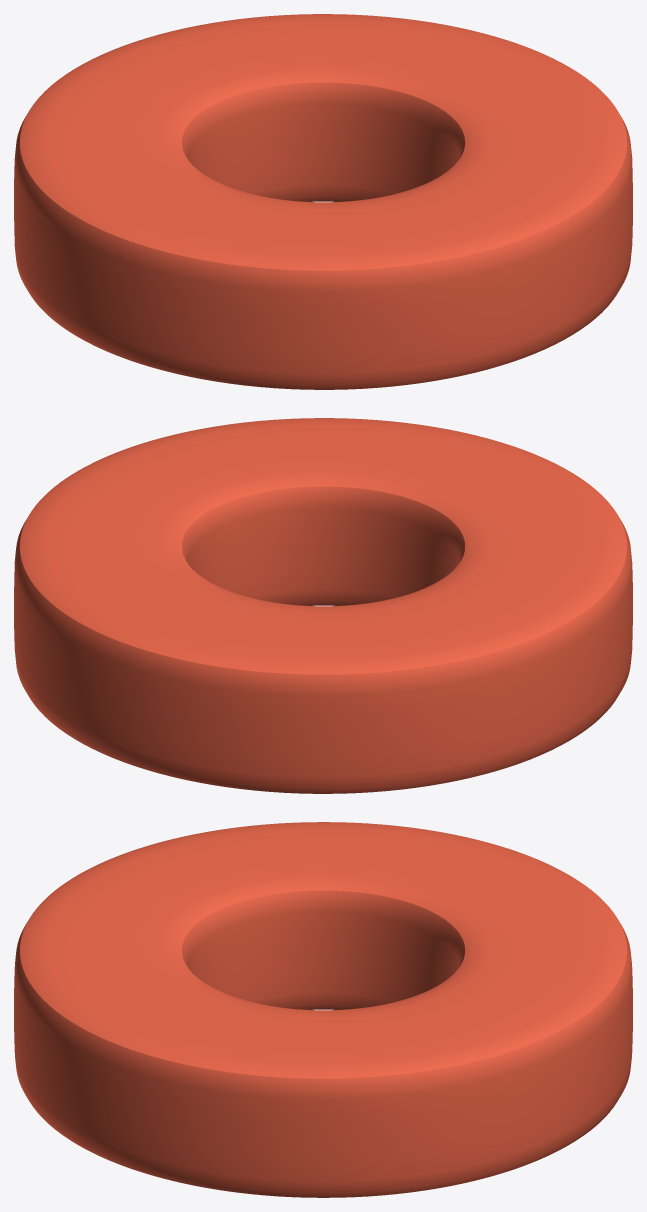
Rendered from o de ola para gameplay.fbx.
3 views of the same model, one above another, from view 1: azimuth 30°, elevation 25°; view 2: azimuth 150°, elevation 25°; view 3: azimuth 270°, elevation 25° (orthographic).
Parts seen in each view (by area): view 1: Cylinder; view 2: Cylinder; view 3: Cylinder.
Boxes of the visible parts, <box> form: Cylinder: <box>14,14,632,389</box>; Cylinder: <box>14,418,632,793</box>; Cylinder: <box>14,822,632,1197</box>.
Size of the model in its own units: 156 by 35.69 by 156.
